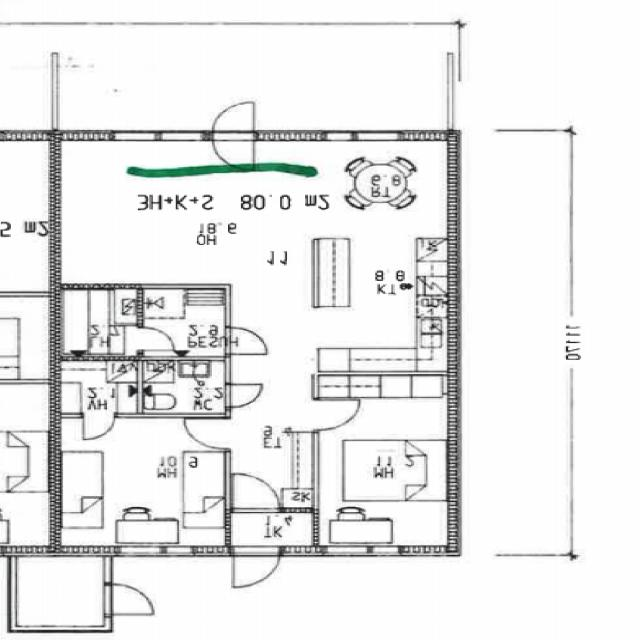door: (235, 546, 280, 588), (213, 99, 256, 141), (213, 130, 256, 171), (236, 476, 280, 513), (106, 583, 154, 614), (314, 400, 359, 429), (188, 420, 232, 448), (226, 328, 268, 353), (226, 384, 264, 407), (85, 413, 116, 441), (138, 328, 174, 350)
